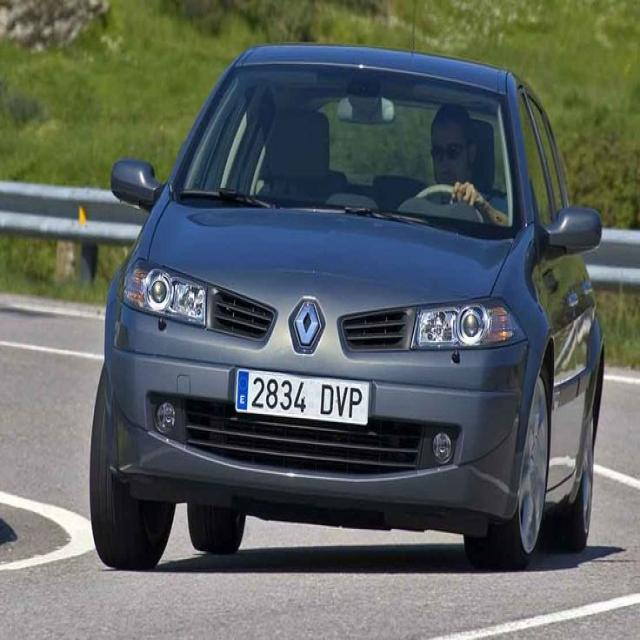Placas: (235, 365, 369, 426)
